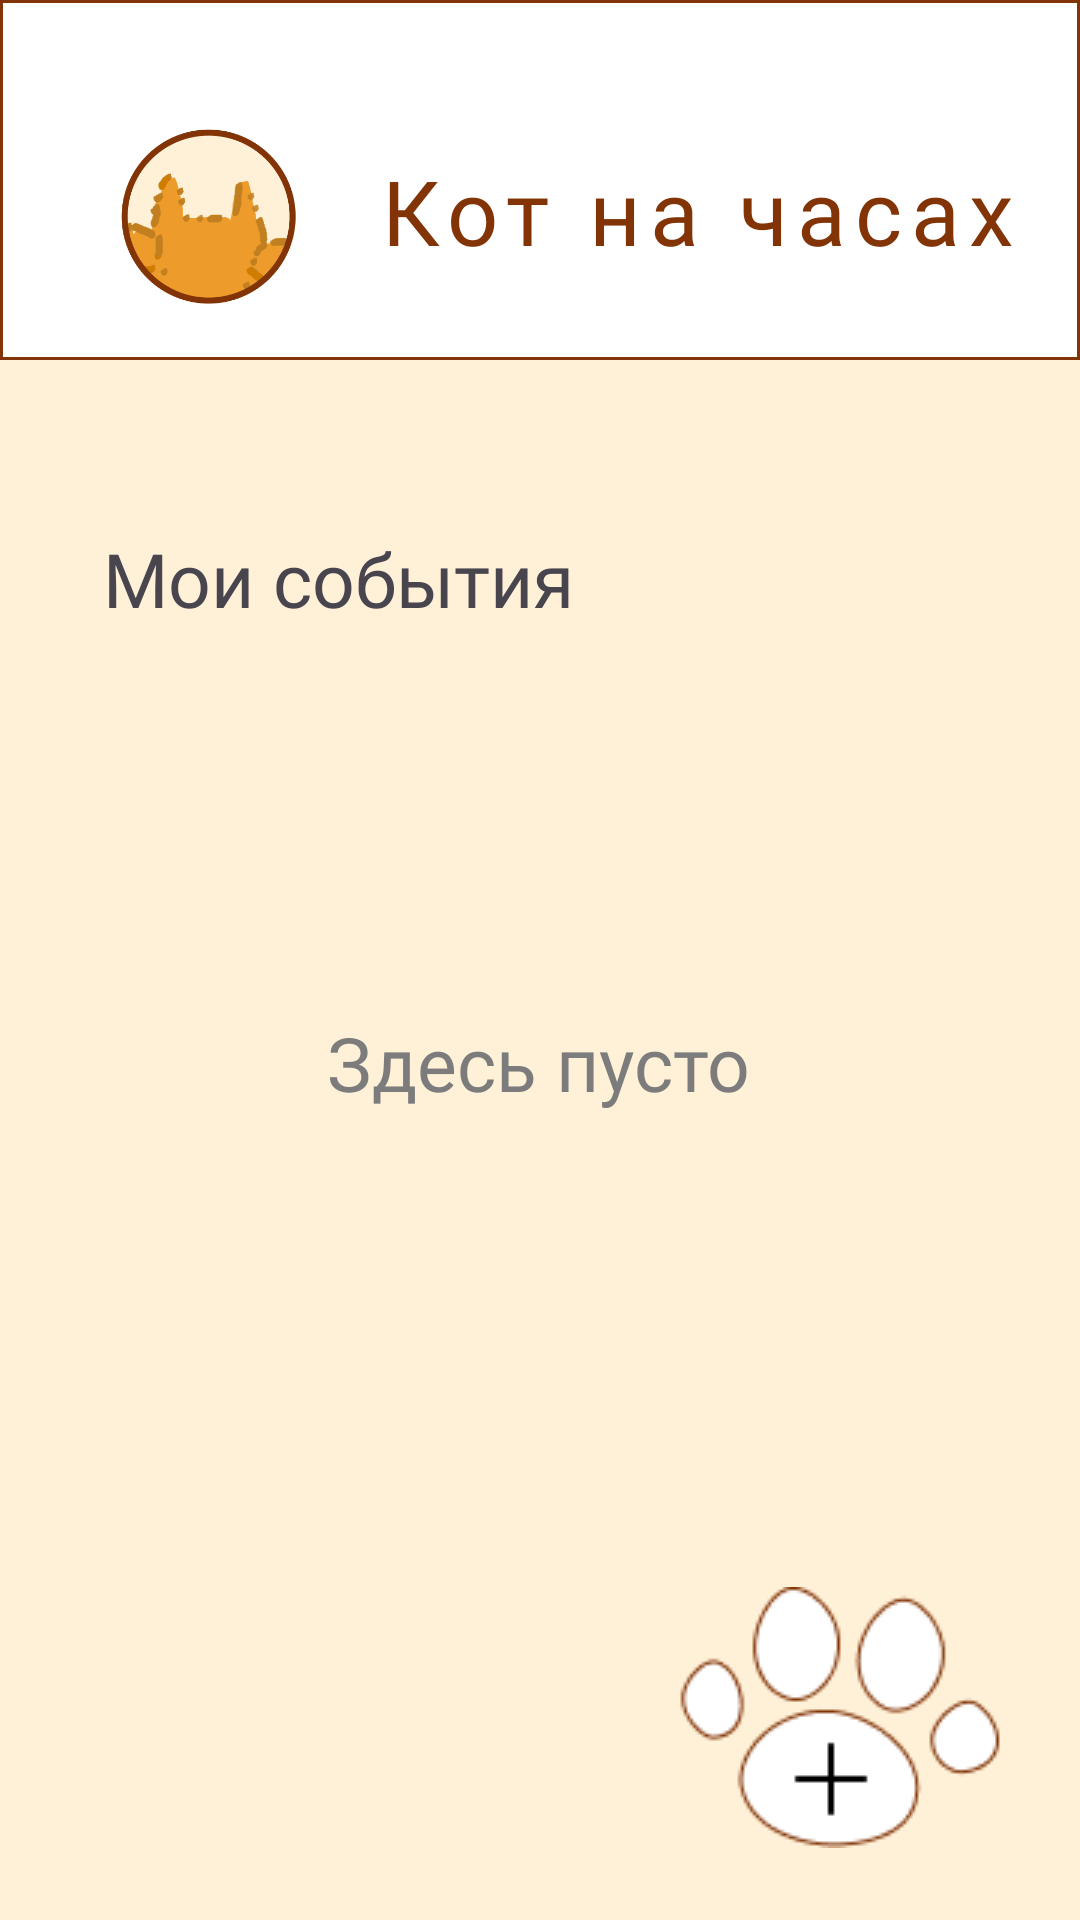

Where to tap for icons on this 1080w x 1920h app screen, as (x,y):
add plus paw: (840,1717)
